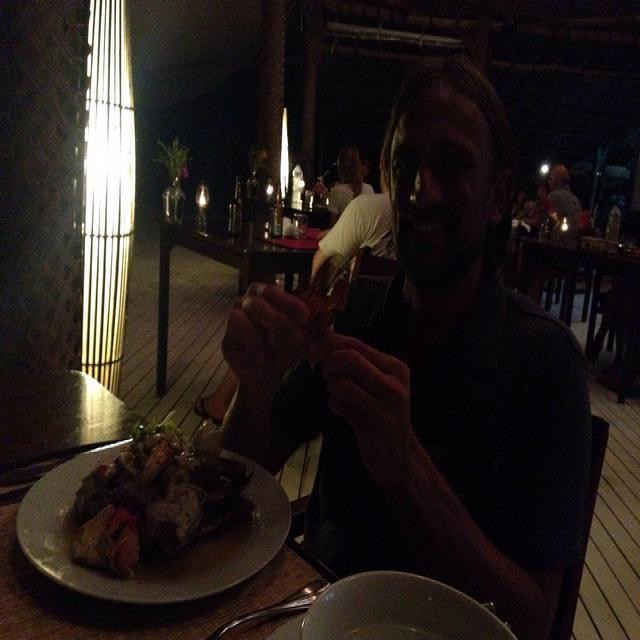chair: (567, 262, 592, 327)
dining table: (2, 366, 457, 640), (155, 137, 333, 395), (525, 239, 629, 292)
